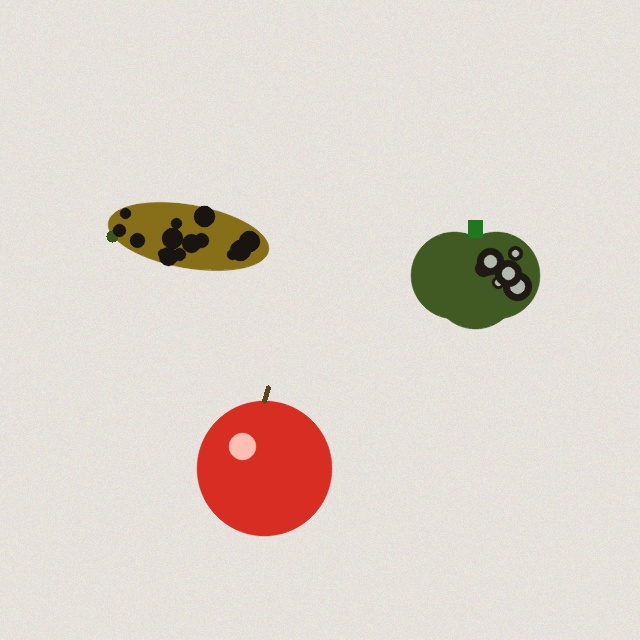Fresh apple: (197, 387, 331, 535)
Rotten banana: (103, 198, 273, 274)
Rotten bell pepper: (411, 220, 539, 328)
